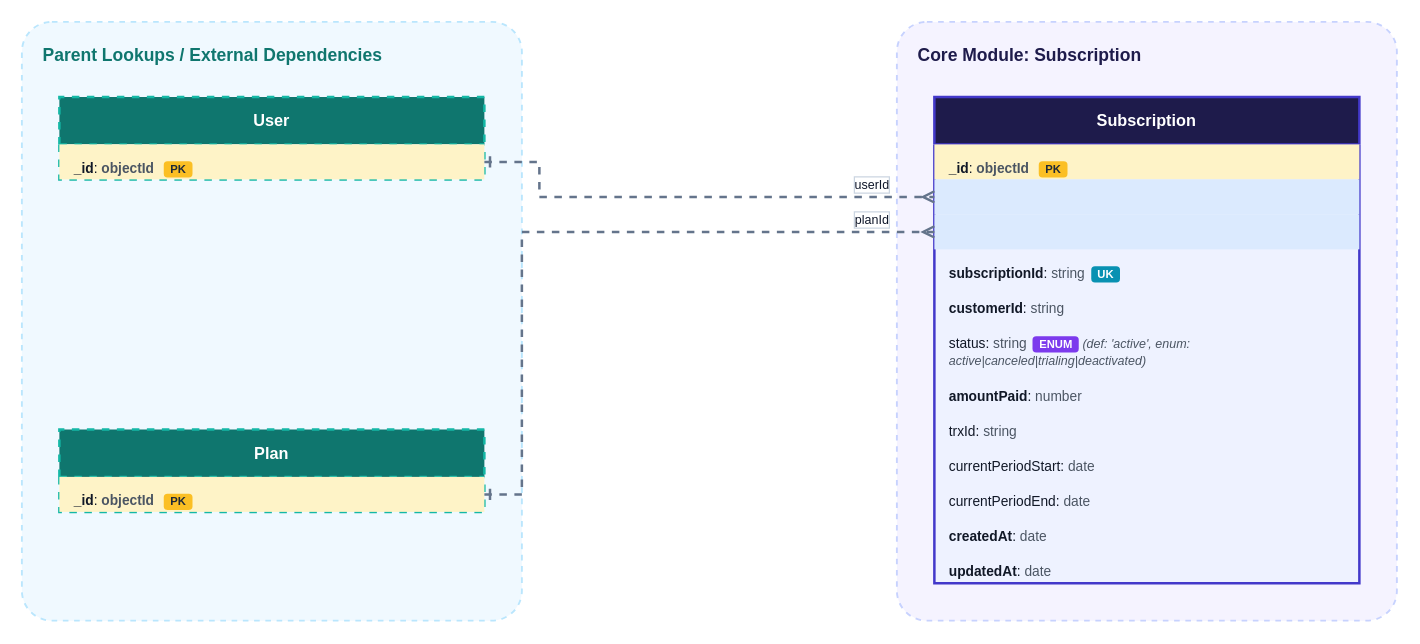
Some shapes in this 1420 by 644 pixel diagram are drawn without their labels. Here are the shapes that lost their labels. From the top down, the centre of each, then its label:
point 1146,196: userId : objectId FK
point 1146,231: planId : objectId FK
